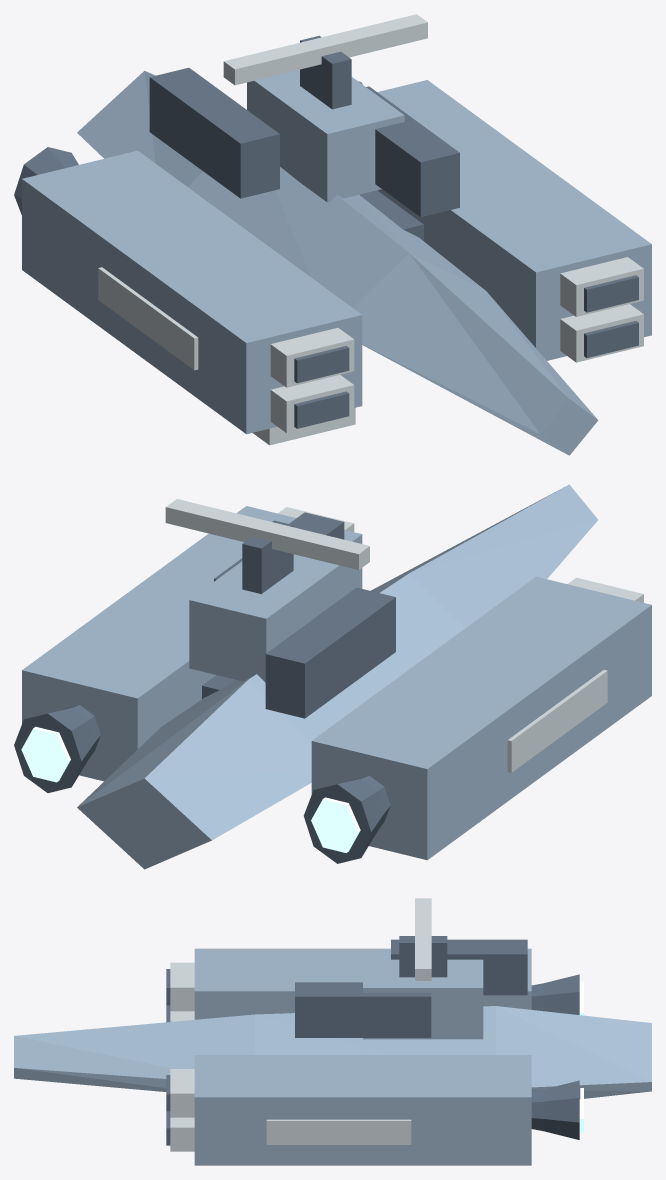
3 renders of one model, top to bottom at view 1: azimuth 30°, elevation 25°; view 2: azimuth 150°, elevation 25°; view 3: azimuth 270°, elevation 25°, orthographic. The views are drawn at different scales.
Bounding box in the file's own units: 6.3 × 3.79 × 11.22.
